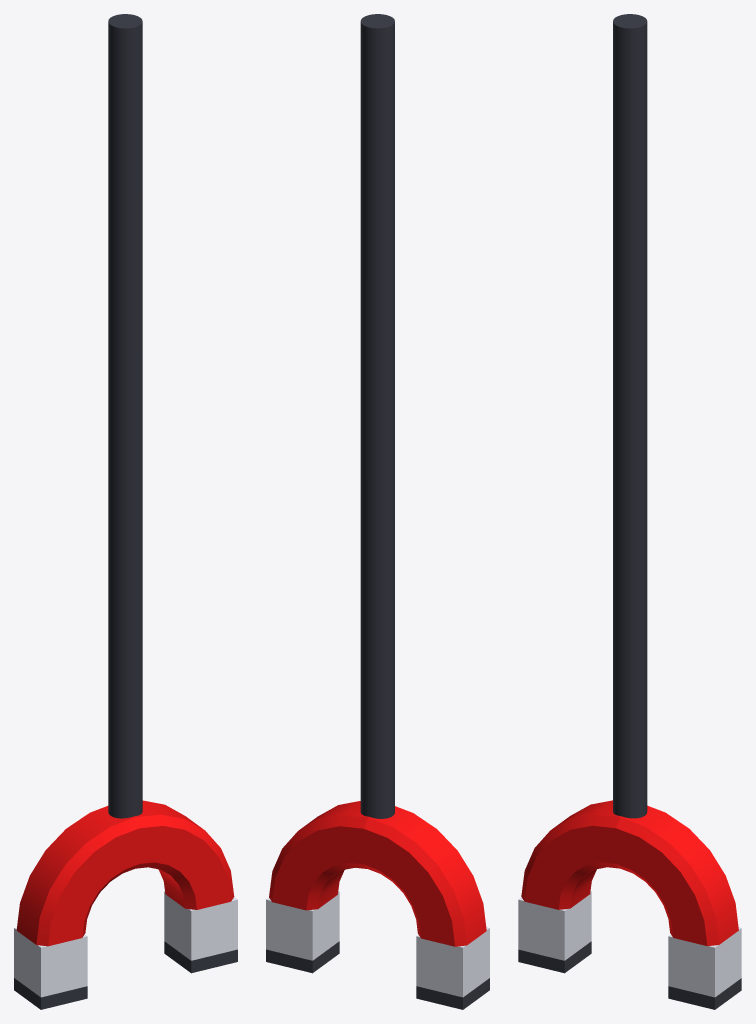
Rendered from Magnet.fbx.
The picture shows the model from 3 angles, left to right: view 1: azimuth 30°, elevation 25°; view 2: azimuth 150°, elevation 25°; view 3: azimuth 330°, elevation 25°; orthographic projection.
Visible parts, largest first — view 1: mergedBlocks; view 2: mergedBlocks; view 3: mergedBlocks.
Boxes of the visible parts, x1,y1,x2,y2 form: mergedBlocks: (14, 14, 237, 1009); mergedBlocks: (266, 14, 489, 1009); mergedBlocks: (518, 14, 741, 1009).
Size of the model in its own units: 13.3 by 61.3 by 3.3.
